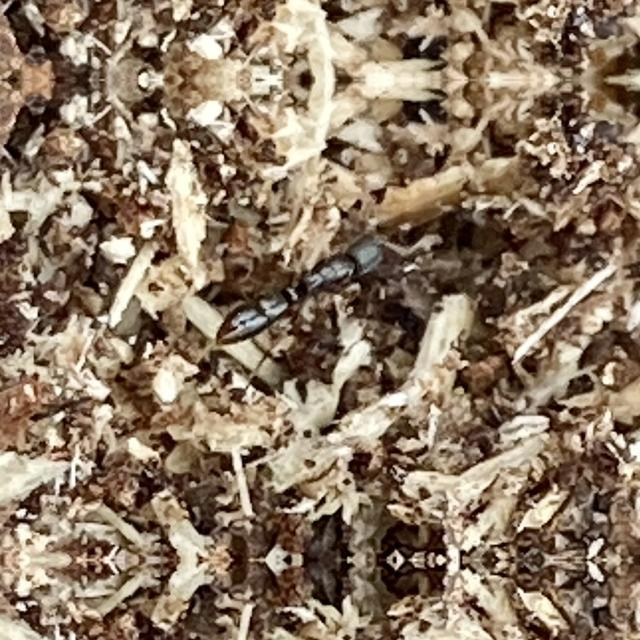Ponera: (139, 210, 419, 346)
